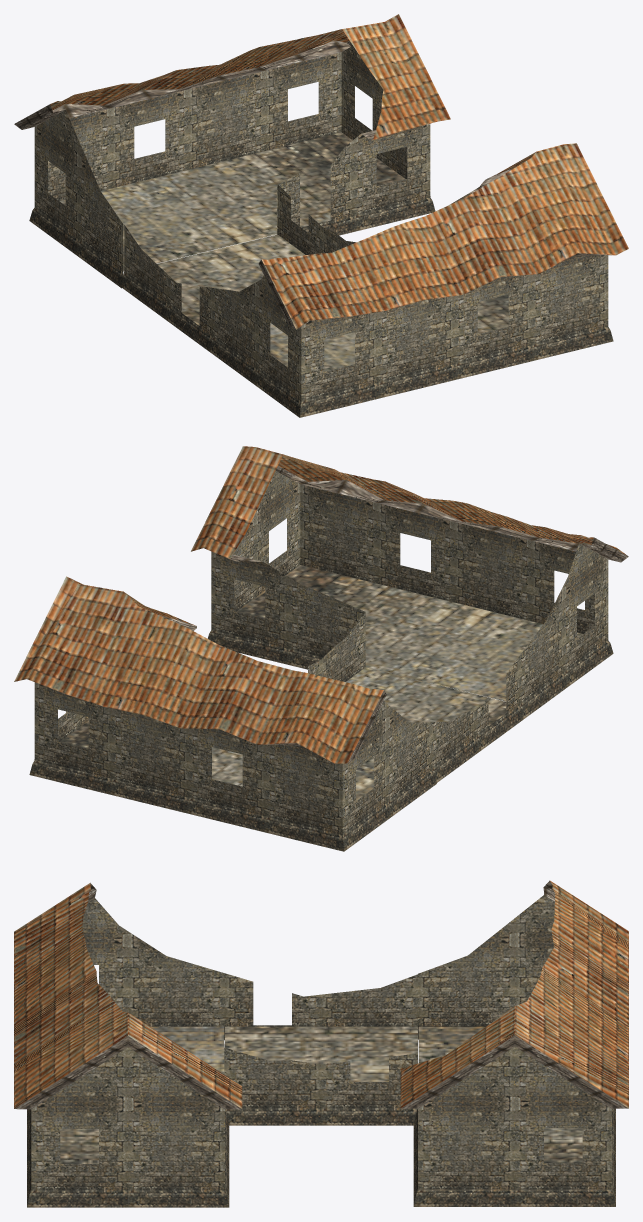
File: s44_b_house_1_6_destroyed_1.dae
3 views of the same model, one above another, from view 1: azimuth 30°, elevation 25°; view 2: azimuth 150°, elevation 25°; view 3: azimuth 270°, elevation 25° (orthographic). The views are drawn at different scales.
Visible parts, largest first — view 1: Untitled; view 2: Untitled; view 3: Untitled.
Part boxes in pixels (x1,y1,x2,y2): Untitled: [14, 14, 628, 417]; Untitled: [14, 446, 628, 851]; Untitled: [14, 880, 628, 1207].
Size of the model in its own units: 104 by 152 by 49.04.
1 material, 1 textured.
